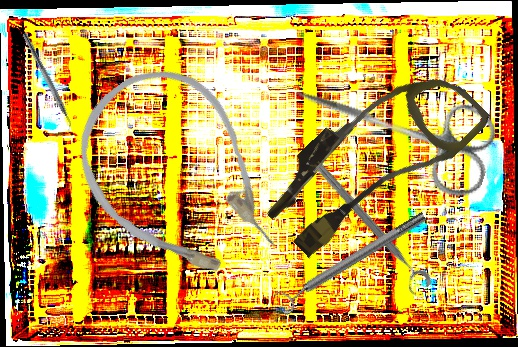Cannula: (47, 41, 310, 316), (251, 39, 494, 279)
Chopper: (15, 32, 78, 135)
Fixation Ring: (271, 205, 433, 317), (305, 160, 435, 299)
Iris Scissors: (280, 51, 505, 204)
